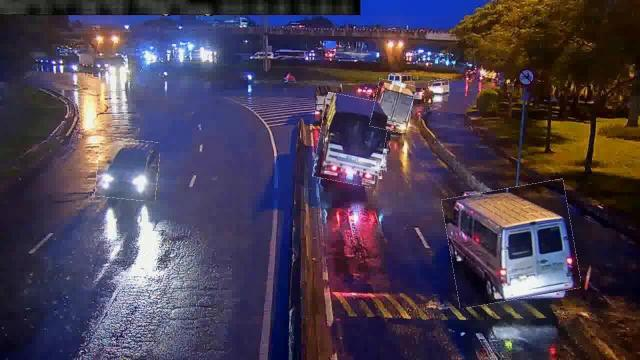Car: (445, 184, 577, 304), (96, 138, 160, 200), (428, 80, 449, 93)
Truck: (316, 95, 388, 185), (372, 80, 413, 132)
